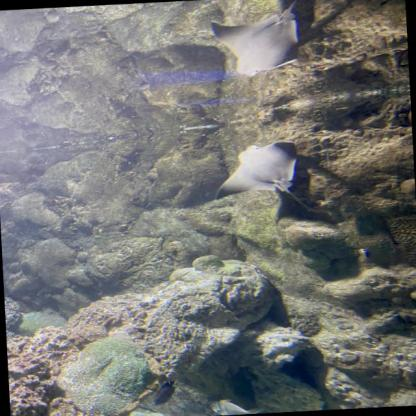fish: (208, 398, 263, 415), (151, 378, 179, 406)
stingray: (211, 12, 300, 79), (213, 140, 299, 201)
